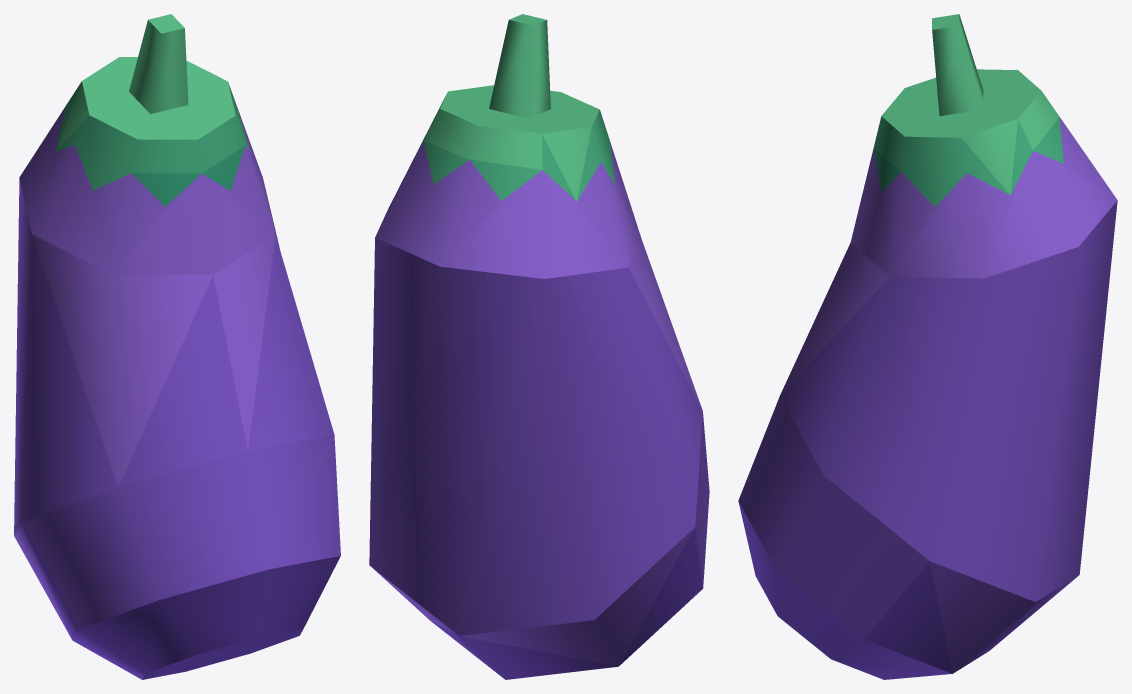
The model's file is berinjela.glb.
3 views of the same model, side by side, from view 1: azimuth 30°, elevation 25°; view 2: azimuth 150°, elevation 25°; view 3: azimuth 270°, elevation 25° (orthographic). The views are drawn at different scales.
Visible parts, largest first — view 1: eggplant; view 2: eggplant; view 3: eggplant.
Part boxes in pixels (x1,y1,x2,y2): eggplant: (14, 14, 340, 679); eggplant: (369, 14, 709, 679); eggplant: (738, 14, 1117, 679).
Size of the model in its own units: 0.2041 by 0.4052 by 0.2155.
